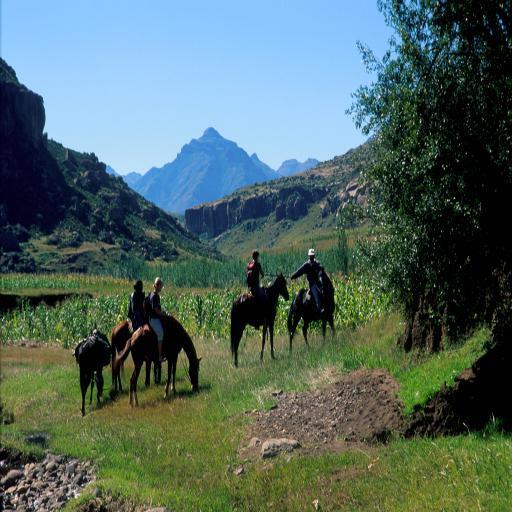horse: (113, 312, 202, 406), (230, 271, 290, 368), (108, 314, 168, 394), (285, 266, 336, 348), (76, 321, 110, 416)
